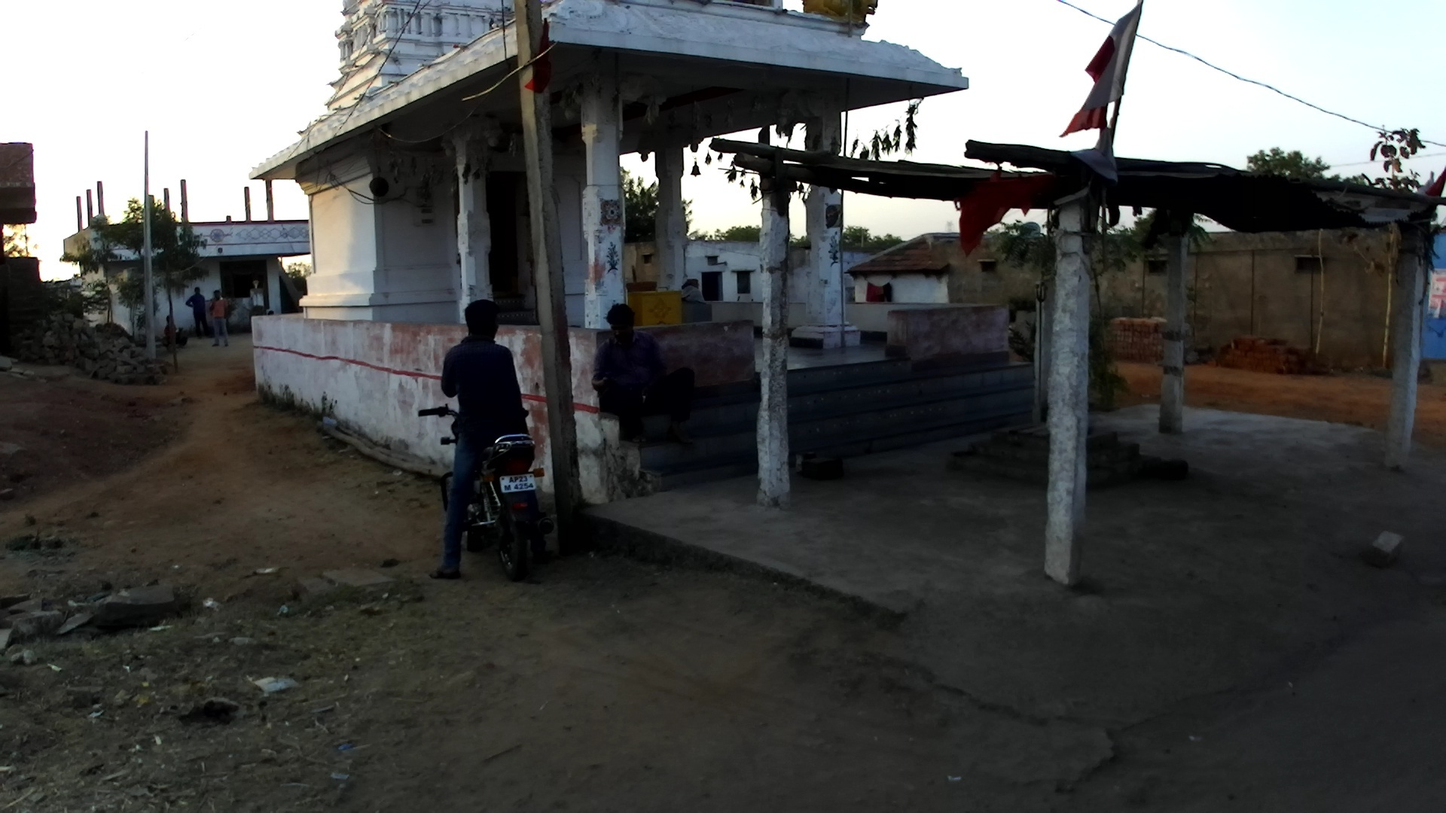car: (208, 288, 231, 347)
motorcycle: (416, 402, 555, 583)
person: (590, 303, 697, 445), (185, 285, 212, 340), (163, 315, 176, 355)
rider: (428, 298, 532, 579)
